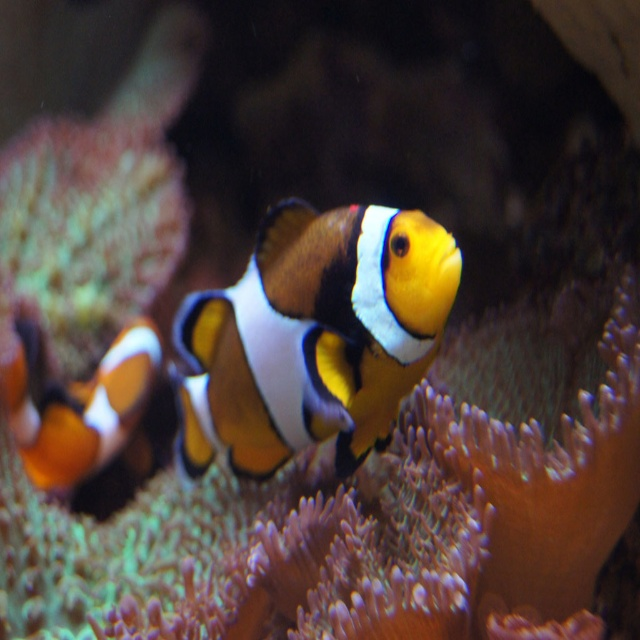Fish: (166, 197, 462, 482), (0, 314, 164, 489)
